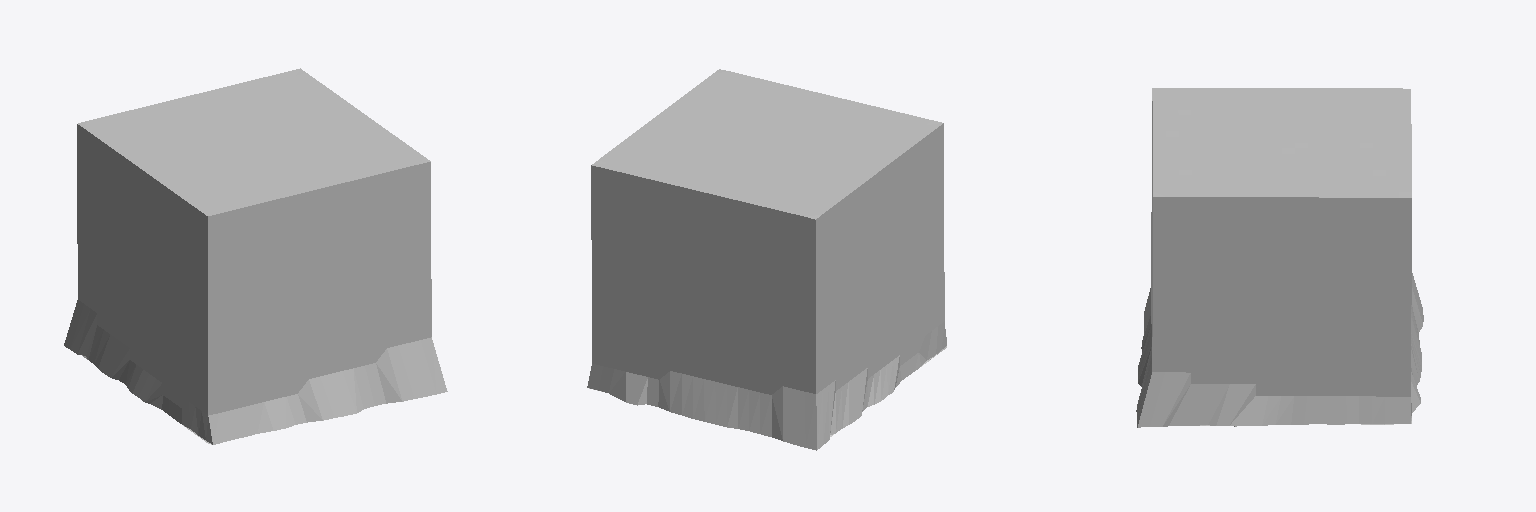
The model's file is mod0143.obj.
3 views of the same model, side by side, from view 1: azimuth 30°, elevation 25°; view 2: azimuth 150°, elevation 25°; view 3: azimuth 270°, elevation 25° (orthographic).
Visible parts, largest first — view 1: Box001; view 2: Box001; view 3: Box001.
Part boxes in pixels (x1,y1,x2,y2): Box001: (64, 68, 447, 444); Box001: (587, 69, 946, 450); Box001: (1136, 88, 1423, 427).
Size of the model in its own units: 0.5799 by 0.5223 by 0.5979.